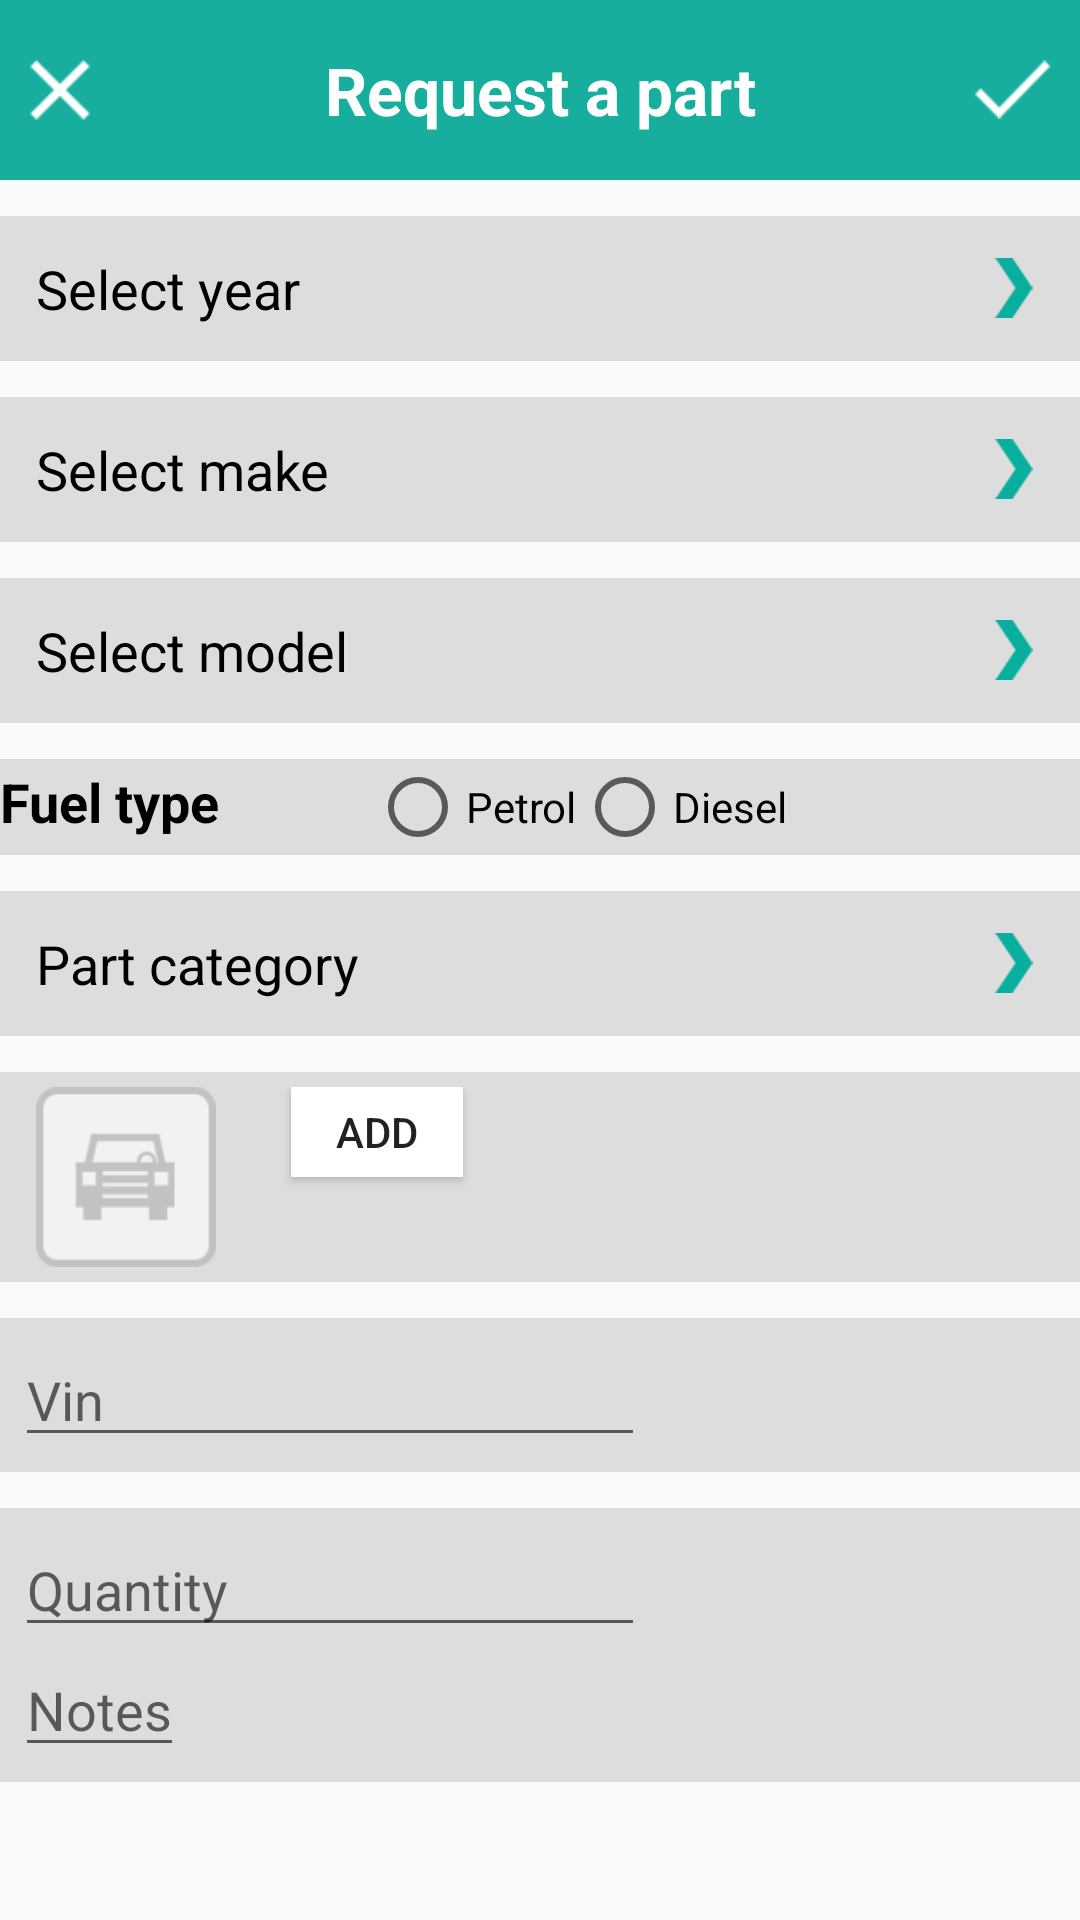

Icons on this 1080*1920 Android screen, each with the point to tap as [x,y]:
arrow: [1014,288], [1014,469], [1014,650], [1014,963]
cancel: [60,90]
car thumbnail: [126,1177]
correct: [1012,89]
